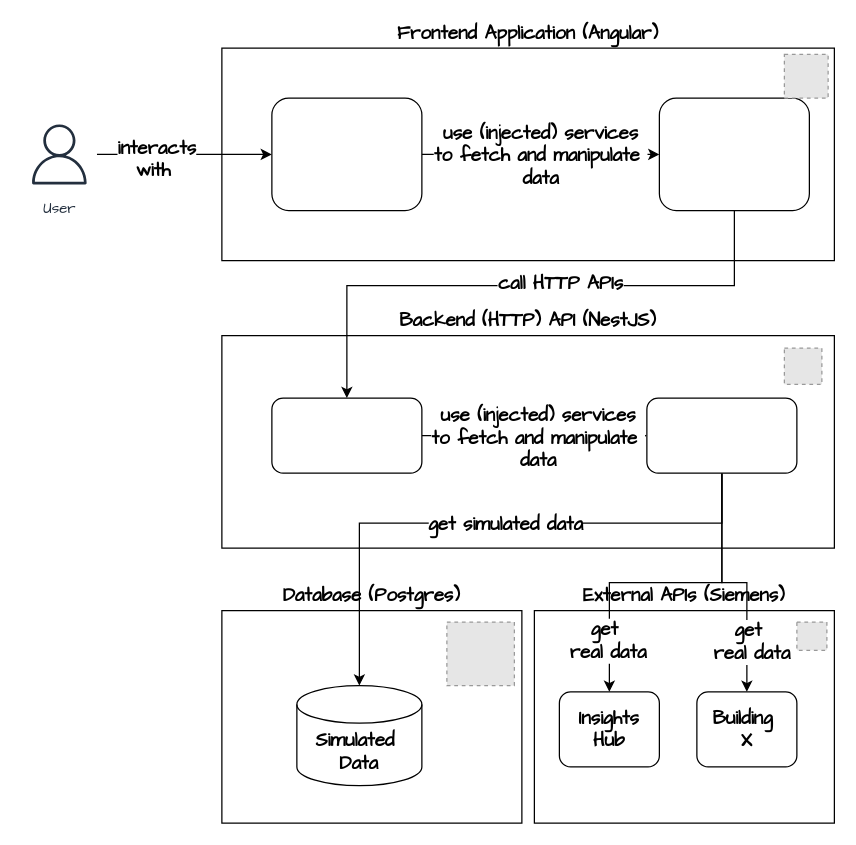
Image size: 856x845. Some labels were removed from this diagram. Grey dashed boxes stand in for pictures. The centre of each missing label's shape, as x and y in pixels:
"Angular Services" goes at point 733,154.
"Angular Views (Components)" goes at point 346,154.
"NestJS Controllers" goes at point 346,435.
"NestJS Services" goes at point 721,435.
